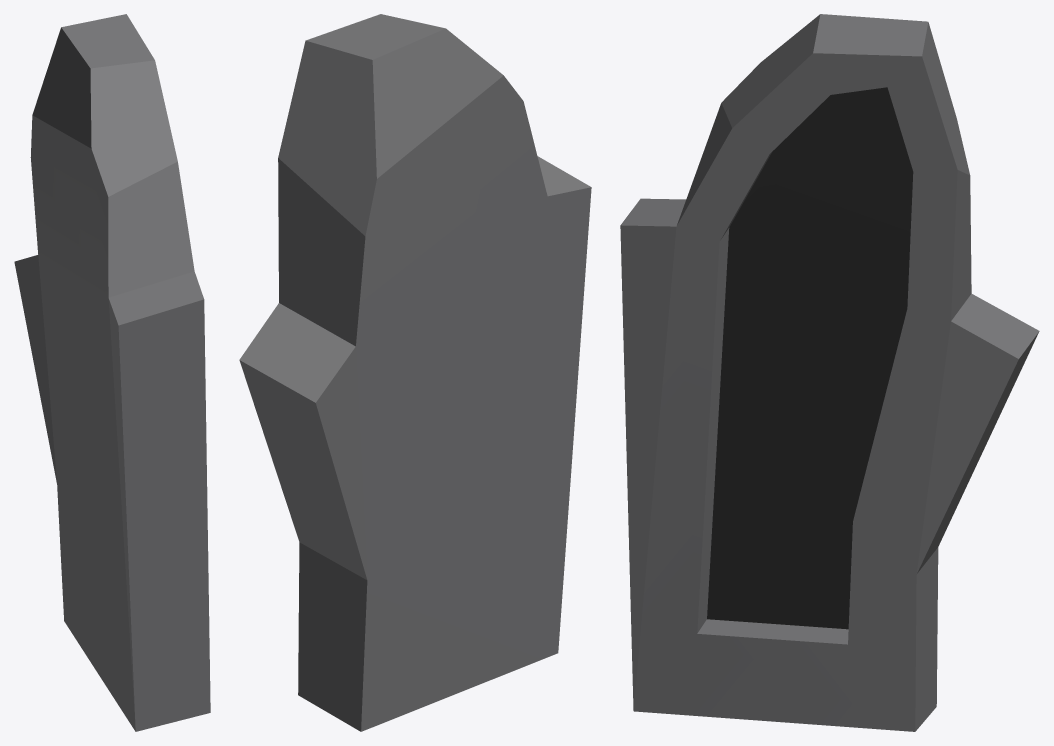
File: ea_grave_stone_mini_01b_pre__16__lev1.glb
3 renders of one model, left to right at view 1: azimuth 30°, elevation 25°; view 2: azimuth 150°, elevation 25°; view 3: azimuth 270°, elevation 25°, orthographic. The views are drawn at different scales.
Parts seen in each view (by area): view 1: ea_grave_stone_mini_01b_pre__16__lev1; view 2: ea_grave_stone_mini_01b_pre__16__lev1; view 3: ea_grave_stone_mini_01b_pre__16__lev1.
Boxes of the visible parts, left/top/right/bottom form: ea_grave_stone_mini_01b_pre__16__lev1: left=14, top=14, right=210, bottom=731; ea_grave_stone_mini_01b_pre__16__lev1: left=239, top=14, right=591, bottom=731; ea_grave_stone_mini_01b_pre__16__lev1: left=620, top=14, right=1039, bottom=731.
Bounding box in the file's own units: 0.5503 × 2.15 × 1.18.
Materials: 1 (1 with a texture image).
